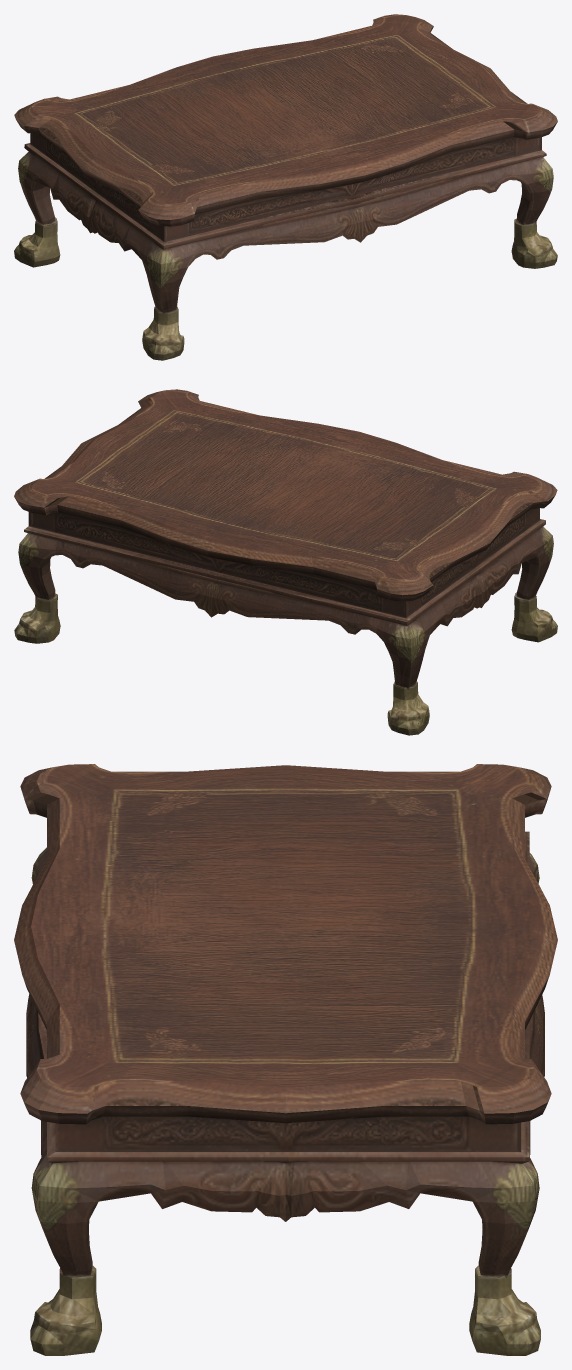
Rendered from CoffeeTable.fbx.
3 renders of one model, top to bottom at view 1: azimuth 30°, elevation 25°; view 2: azimuth 150°, elevation 25°; view 3: azimuth 270°, elevation 25°, orthographic. The views are drawn at different scales.
Visible parts, largest first — view 1: CoffeeTable_Low; view 2: CoffeeTable_Low; view 3: CoffeeTable_Low.
Part boxes in pixels (x1=…): CoffeeTable_Low: x1=14, y1=14, x2=557, y2=360; CoffeeTable_Low: x1=14, y1=389, x2=557, y2=735; CoffeeTable_Low: x1=14, y1=764, x2=557, y2=1355.
Size of the model in its own units: 1.98 by 0.6891 by 1.31.
